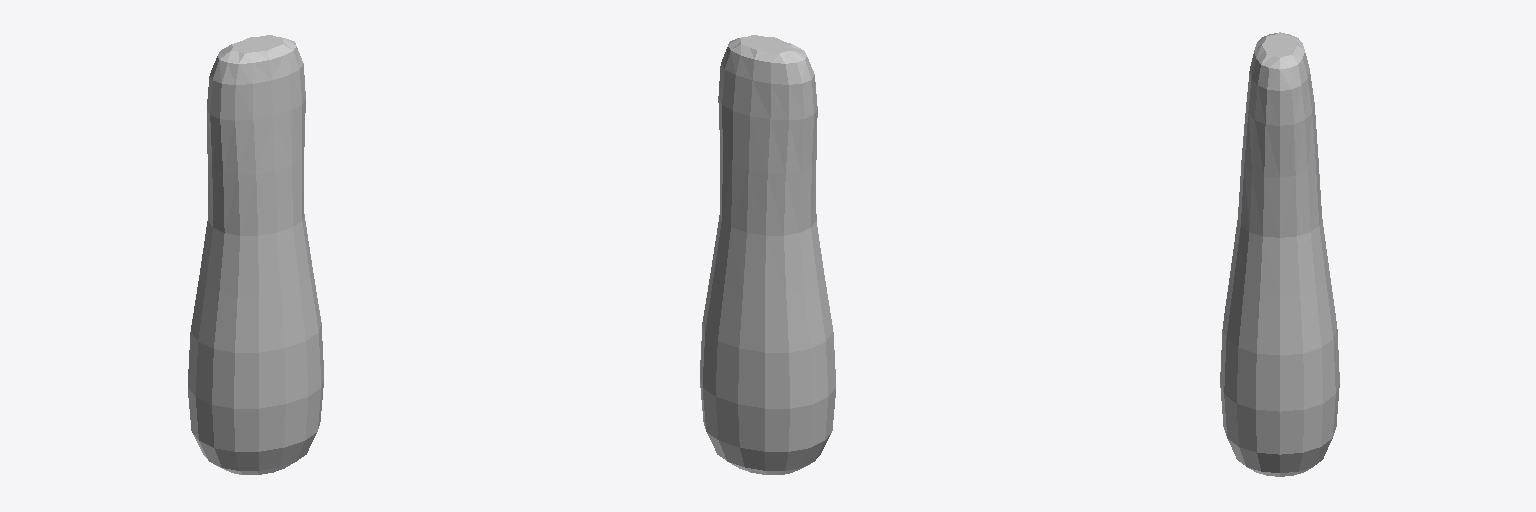
The model's file is legLower.obj.
3 renders of one model, left to right at view 1: azimuth 30°, elevation 25°; view 2: azimuth 150°, elevation 25°; view 3: azimuth 270°, elevation 25°, orthographic.
Size of the model in its own units: 3.62 by 12.11 by 3.11.